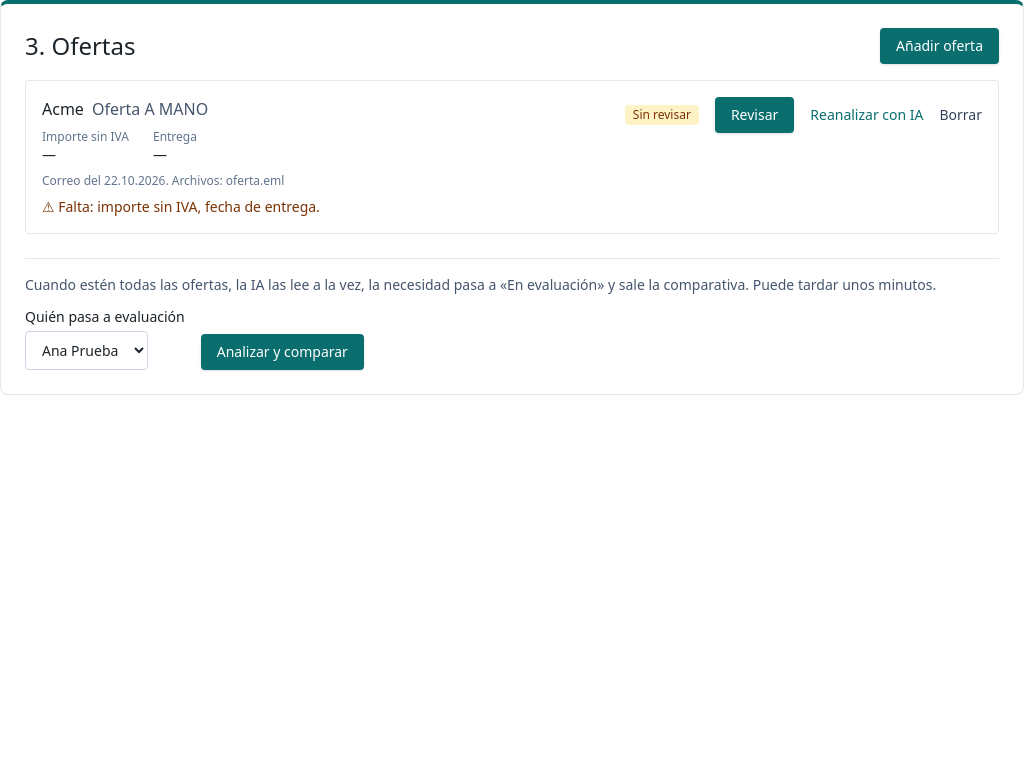
Scenario: SeccionOfertas › reanaliza una oferta con la IA tras confirmarlo y abre la revisión con los datos nuevos
Click the button with aria-label "Reanalizar con IA la oferta de Acme" at (867, 115), box x1=810 y1=105 x2=924 y2=125
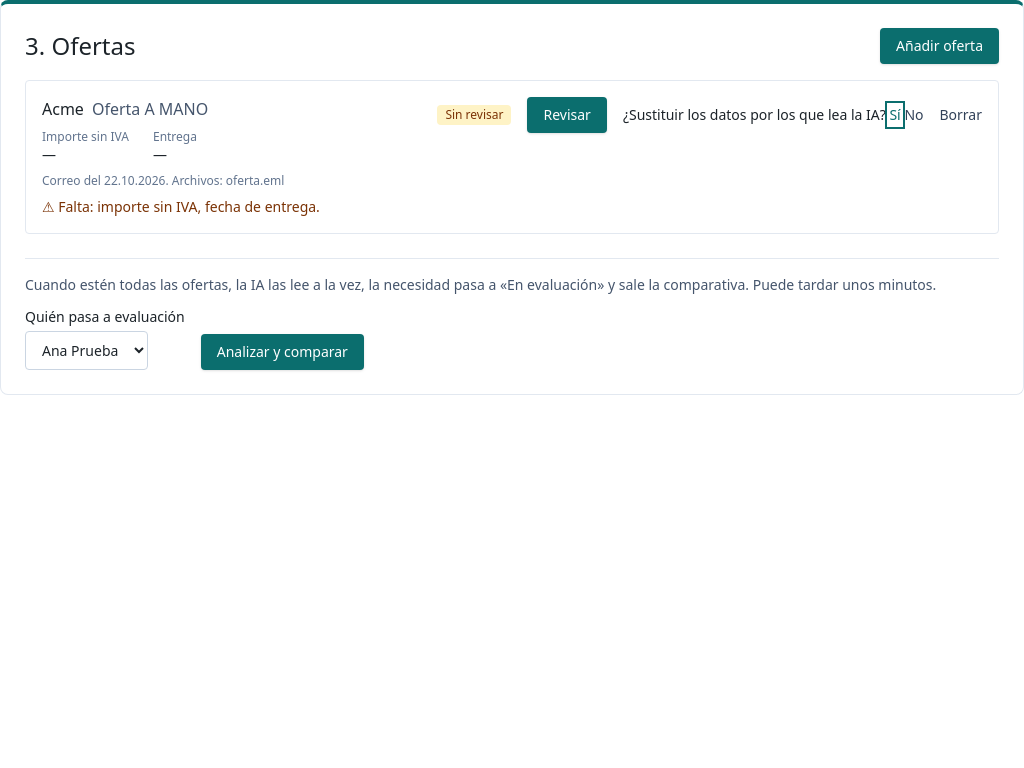
Click the button with aria-label "Sí, reanalizar la oferta de Acme" at (895, 115), box x1=889 y1=105 x2=901 y2=125
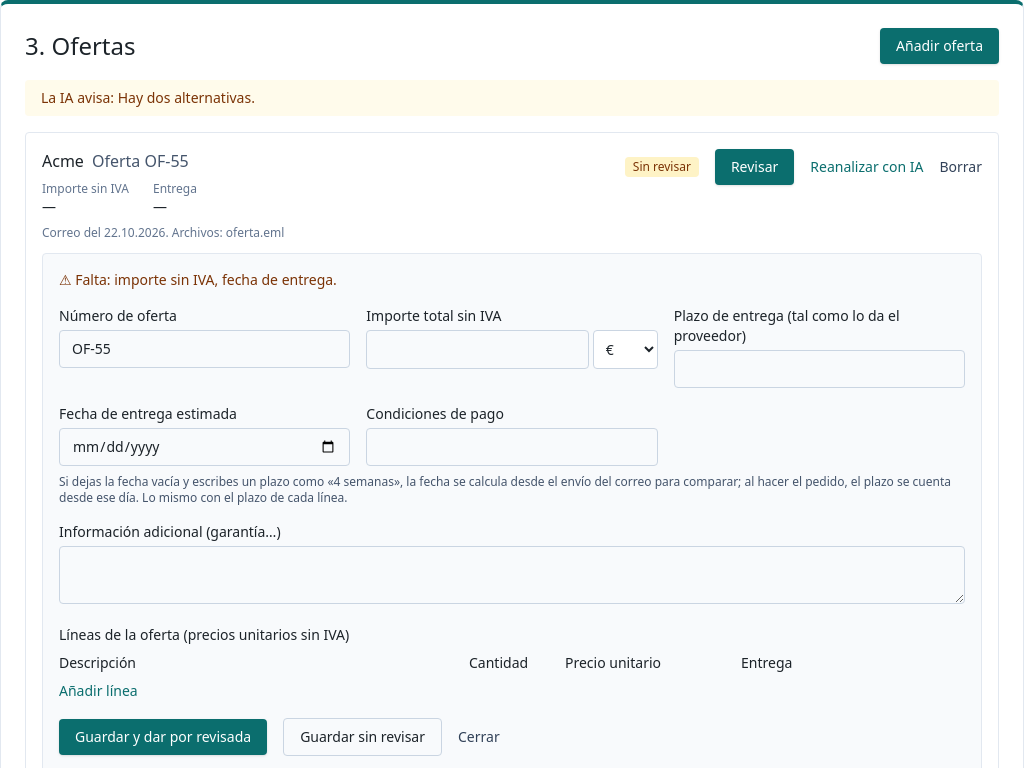
Result: the message shows "Hay dos alternativas." at x1=41 y1=88 x2=255 y2=107
Result: the field showing "OF-55" is shown at x1=59 y1=330 x2=350 y2=368
